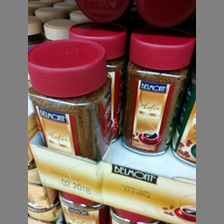coffee: (28, 39, 113, 163), (123, 29, 194, 156)
